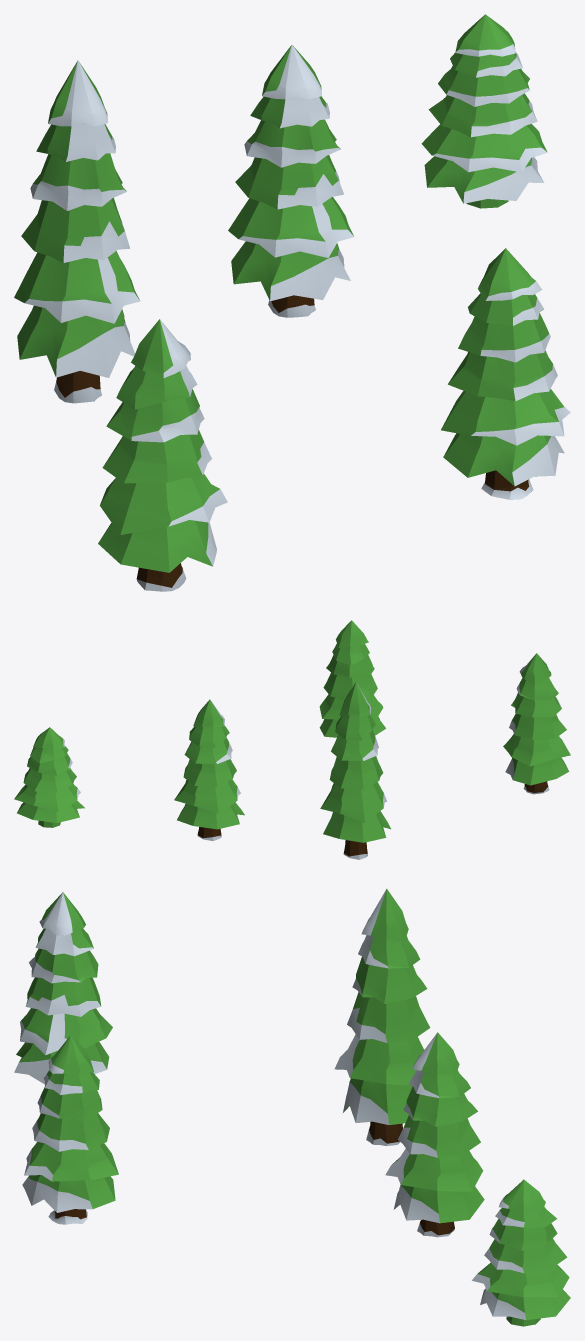
Rendered from dressing-firs.glb.
3 views of the same model, one above another, from view 1: azimuth 30°, elevation 25°; view 2: azimuth 150°, elevation 25°; view 3: azimuth 270°, elevation 25° (orthographic). The views are drawn at different scales.
Visible parts, largest first — view 1: FirTreeSnowD, FirTreeSnowB, FirTreeSnowE, FirTreeSnowC, FirTreeSnowA; view 2: FirTreeSnowD, FirTreeSnowB, FirTreeSnowE, FirTreeSnowA, FirTreeSnowC; view 3: FirTreeSnowD, FirTreeSnowE, FirTreeSnowC, FirTreeSnowB, FirTreeSnowA.
Part boxes in pixels (<box>): FirTreeSnowD: <box>14,60,140,403</box>; FirTreeSnowB: <box>98,319,227,591</box>; FirTreeSnowE: <box>228,45,354,317</box>; FirTreeSnowC: <box>441,248,570,499</box>; FirTreeSnowA: <box>421,14,547,208</box>; FirTreeSnowD: <box>320,682,390,859</box>; FirTreeSnowB: <box>503,653,570,794</box>; FirTreeSnowE: <box>174,699,244,840</box>; FirTreeSnowA: <box>14,727,84,827</box>; FirTreeSnowC: <box>319,620,385,737</box>; FirTreeSnowD: <box>334,888,430,1145</box>; FirTreeSnowE: <box>385,1032,484,1237</box>; FirTreeSnowC: <box>22,1035,118,1224</box>; FirTreeSnowB: <box>14,892,112,1084</box>; FirTreeSnowA: <box>472,1179,570,1326</box>.
Size of the model in its own units: 1438 by 623 by 1246.
